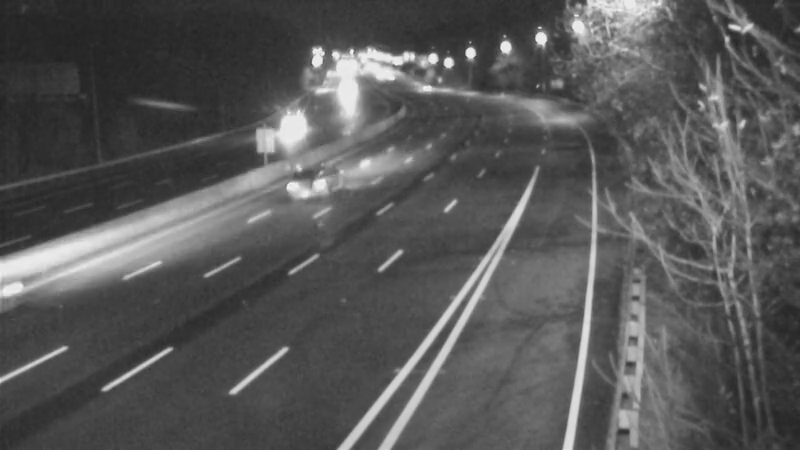vehicle: (266, 143, 346, 223), (398, 64, 448, 114), (269, 100, 319, 150), (323, 72, 373, 122)
